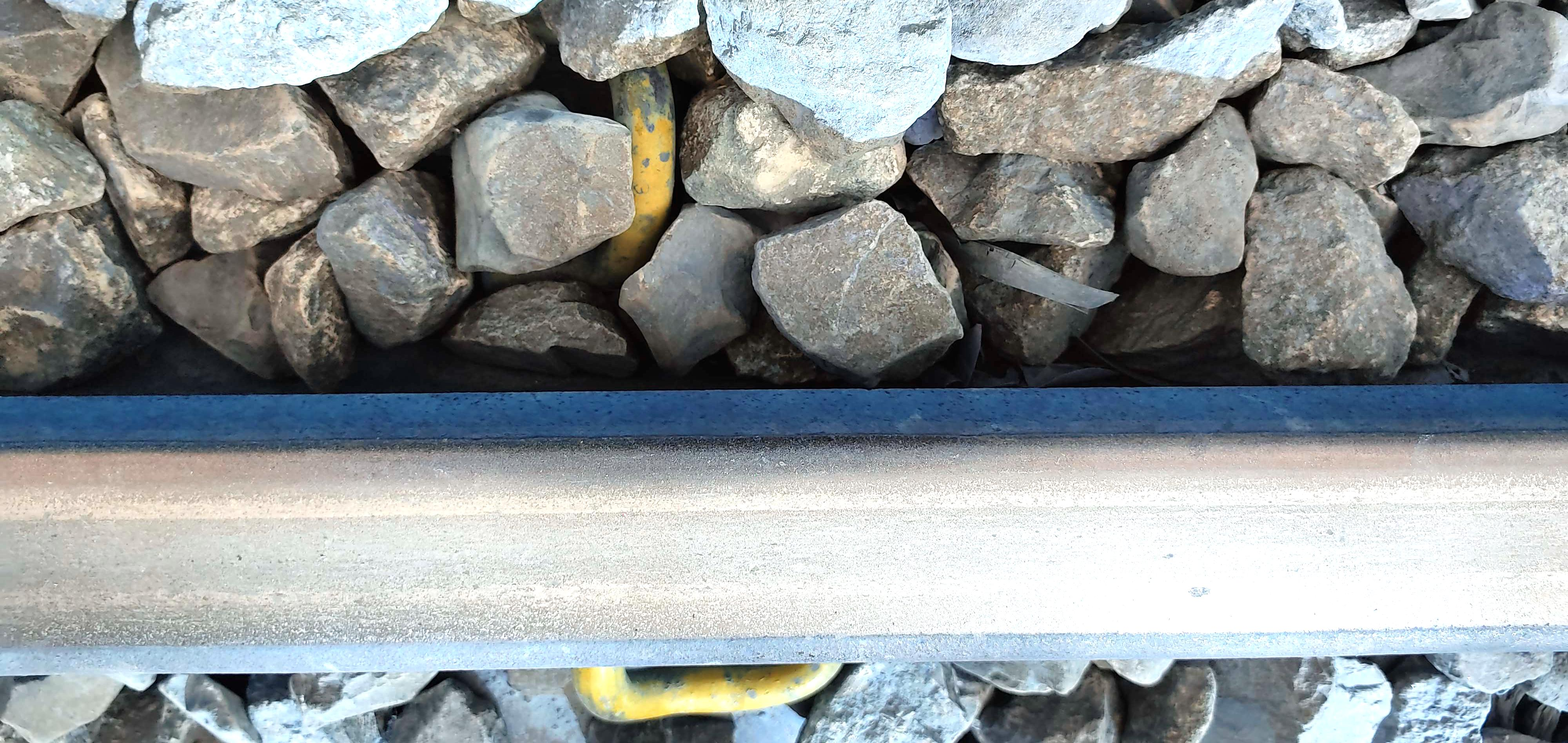Poor contact: (582, 639, 852, 731), (597, 55, 689, 289)
